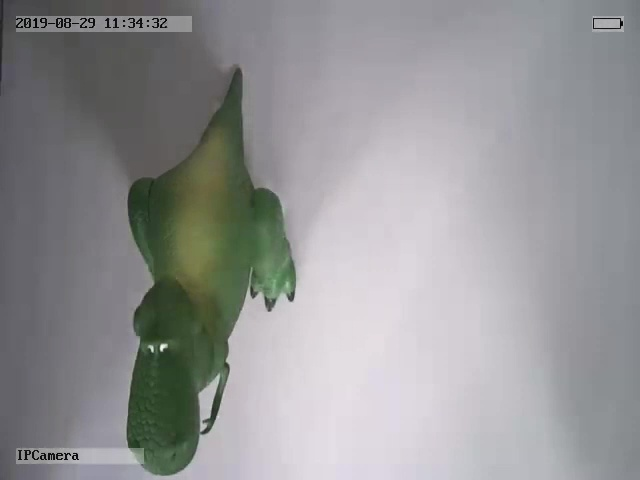rex: (123, 65, 297, 479)
